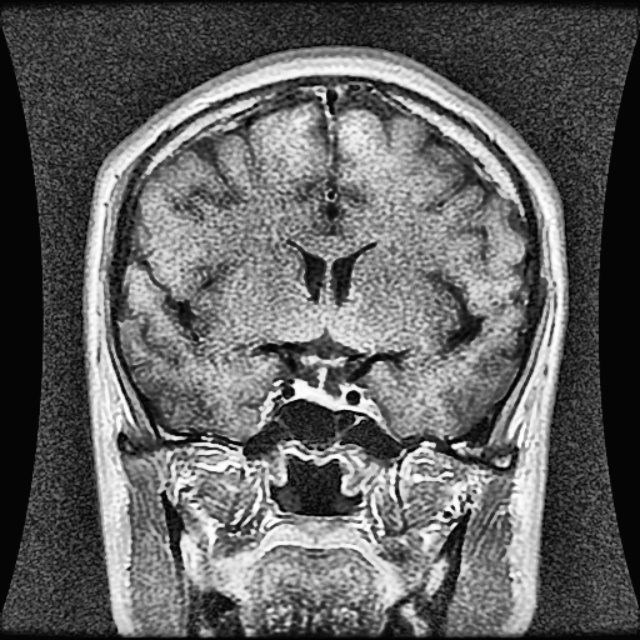Pituitary: (294, 380, 345, 410)
